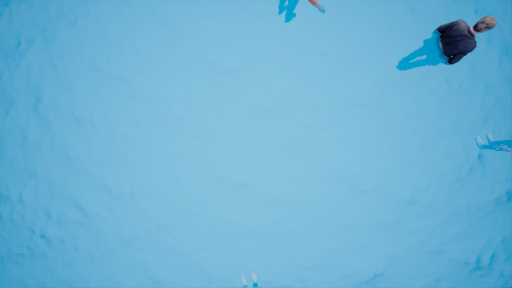person: (402, 2, 499, 78), (278, 1, 329, 31), (472, 130, 512, 156)
